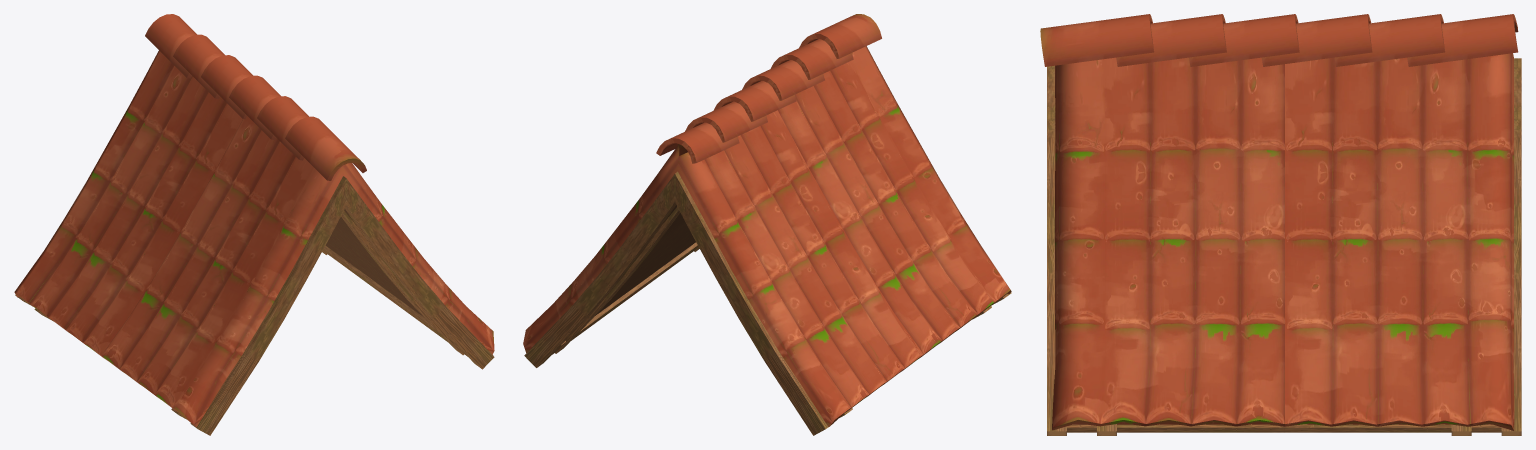
File: Roof_RoundTiles_4x4.glb
3 views of the same model, side by side, from view 1: azimuth 30°, elevation 25°; view 2: azimuth 150°, elevation 25°; view 3: azimuth 270°, elevation 25° (orthographic). The views are drawn at different scales.
Parts seen in each view (by area): view 1: Roof_RoundTiles_4x4; view 2: Roof_RoundTiles_4x4; view 3: Roof_RoundTiles_4x4.
Boxes of the visible parts, <box> form: Roof_RoundTiles_4x4: <box>14,14,494,435</box>; Roof_RoundTiles_4x4: <box>523,14,1011,435</box>; Roof_RoundTiles_4x4: <box>1040,14,1521,435</box>.
Bounding box in the file's own units: 5.51 × 4.25 × 5.56.
2 materials, 2 textured.
